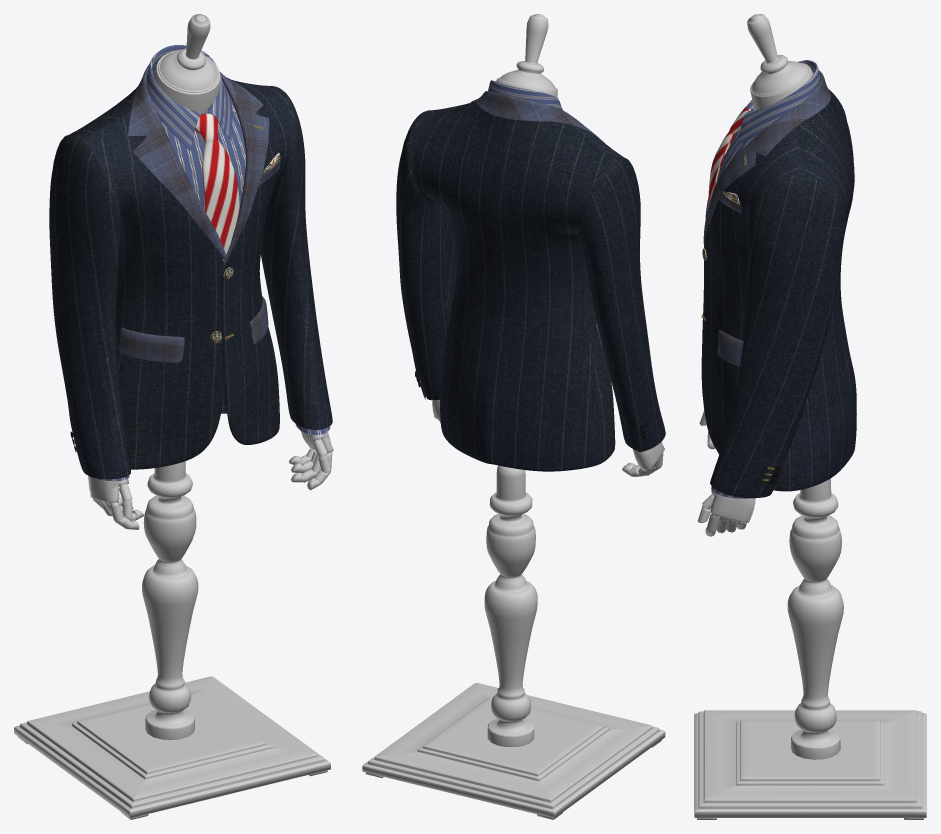
The model's file is suit101.gltf.
3 renders of one model, left to right at view 1: azimuth 30°, elevation 25°; view 2: azimuth 150°, elevation 25°; view 3: azimuth 270°, elevation 25°, orthographic. The views are drawn at different scales.
Parts seen in each view (by area): view 1: waitao_low_14, Suit_yijia_2, lingzi_low_20, xizhuang13_Retopo_26, lingzi002_42, chenshan_low_16, koudai_right_low_30; view 2: waitao_low_14, Suit_yijia_2, lingzi_low_20, lingzi002_42; view 3: waitao_low_14, Suit_yijia_2, lingzi_low_20, lingzi002_42, xizhuang13_Retopo_26, koudai_left_low_28, chenshan_low_16.
Boxes of the visible parts, box(x1,y1,x2,y2) form: waitao_low_14: box(49, 80, 332, 479); Suit_yijia_2: box(14, 14, 333, 819); lingzi_low_20: box(127, 64, 269, 273); xizhuang13_Retopo_26: box(195, 113, 239, 261); lingzi002_42: box(146, 45, 232, 150); chenshan_low_16: box(96, 95, 330, 481); koudai_right_low_30: box(119, 328, 184, 362); waitao_low_14: box(396, 101, 665, 471); Suit_yijia_2: box(362, 14, 665, 819); lingzi_low_20: box(470, 91, 604, 142); lingzi002_42: box(488, 80, 563, 110); waitao_low_14: box(701, 89, 856, 498); Suit_yijia_2: box(694, 14, 926, 819); lingzi_low_20: box(703, 70, 830, 245); lingzi002_42: box(736, 60, 820, 146); xizhuang13_Retopo_26: box(708, 108, 751, 208); koudai_left_low_28: box(717, 330, 743, 366); chenshan_low_16: box(711, 110, 759, 498).
Size of the model in its own units: 0.8431 by 2.5 by 0.694.
